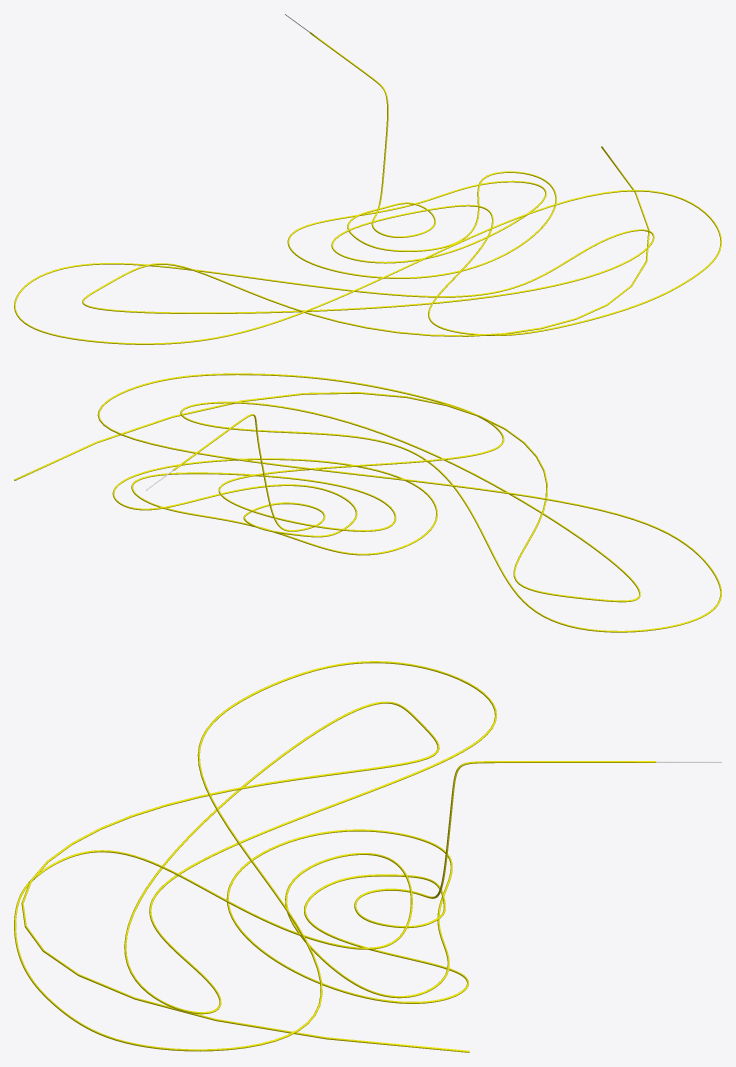
The model's file is kabel terkelupas masuk cleaver.fbx.
3 renders of one model, top to bottom at view 1: azimuth 30°, elevation 25°; view 2: azimuth 150°, elevation 25°; view 3: azimuth 270°, elevation 25°, orthographic. The views are drawn at different scales.
Parts seen in each view (by area): view 1: kabel terkelupas masuk cleaver; view 2: kabel terkelupas masuk cleaver; view 3: kabel terkelupas masuk cleaver.
Boxes of the visible parts, box(x1,y1,x2,y2) form: kabel terkelupas masuk cleaver: box(14, 14, 721, 344); kabel terkelupas masuk cleaver: box(14, 373, 721, 632); kabel terkelupas masuk cleaver: box(14, 661, 721, 1052).
Bounding box in the file's own units: 22.99 × 4.14 × 17.45.
1 material, 1 textured.
